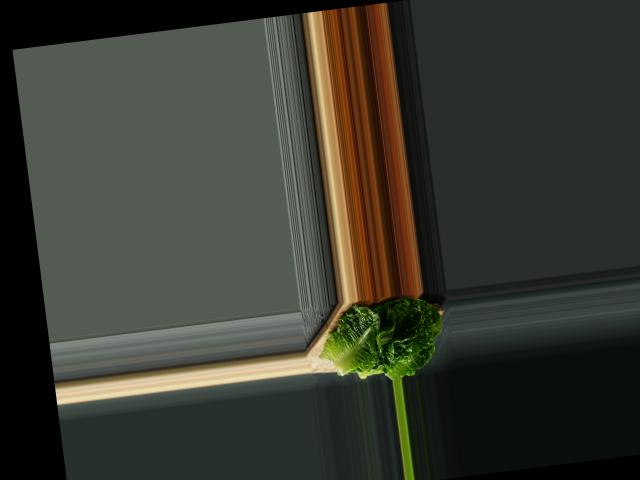lettuce: (317, 289, 452, 386)
